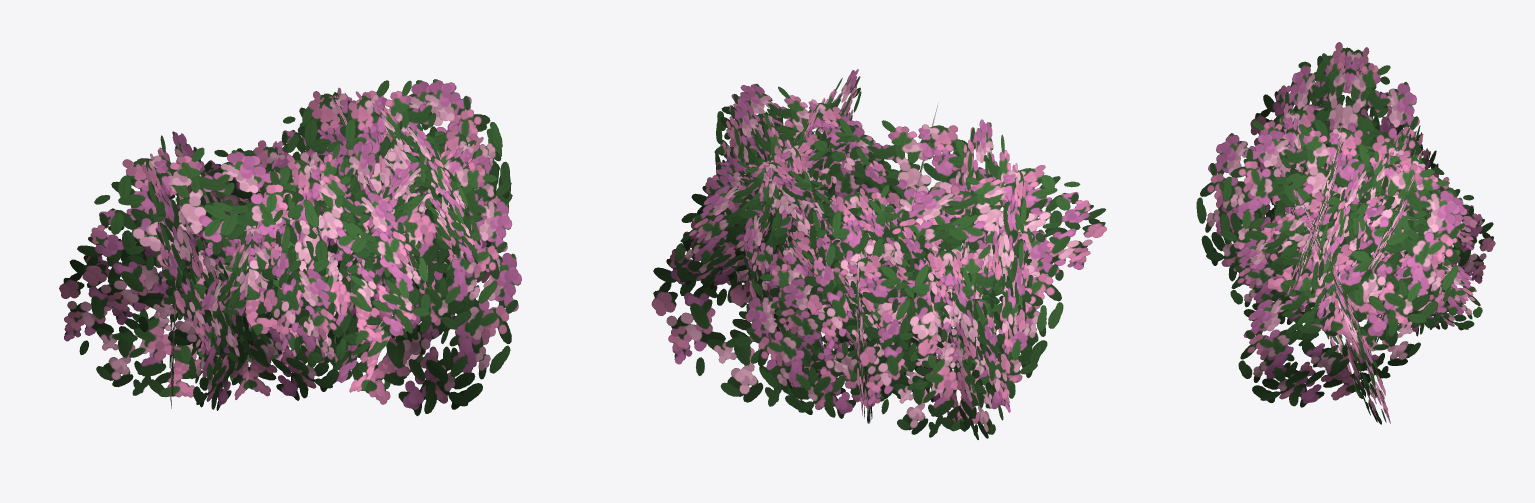
Rendered from CITY_Hortensia_Rosa.fbx.
3 renders of one model, left to right at view 1: azimuth 30°, elevation 25°; view 2: azimuth 150°, elevation 25°; view 3: azimuth 270°, elevation 25°, orthographic. The views are drawn at different scales.
Visible parts, largest first — view 1: CITY_Hortensia_Rosa; view 2: CITY_Hortensia_Rosa; view 3: CITY_Hortensia_Rosa.
Part boxes in pixels (left/top/right/bottom): CITY_Hortensia_Rosa: left=59, top=79, right=521, bottom=416; CITY_Hortensia_Rosa: left=651, top=69, right=1106, bottom=439; CITY_Hortensia_Rosa: left=1196, top=42, right=1495, bottom=424.
Size of the model in its own units: 2.19 by 1.77 by 1.47.
